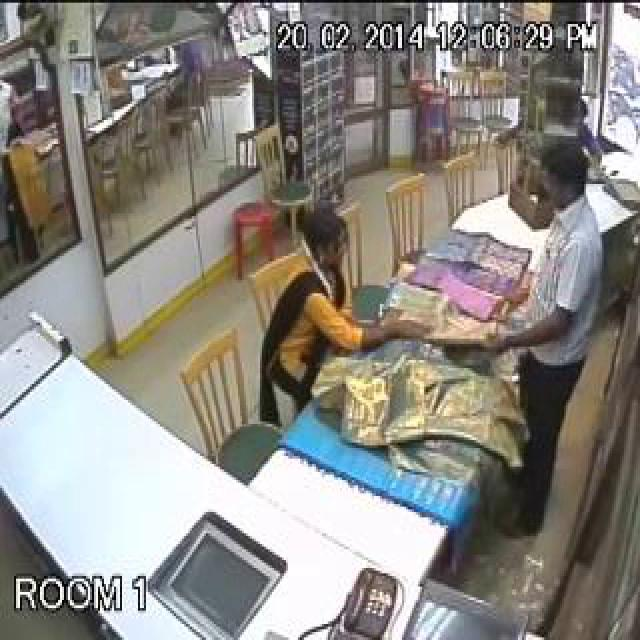shoplifting: (287, 106, 640, 600)
